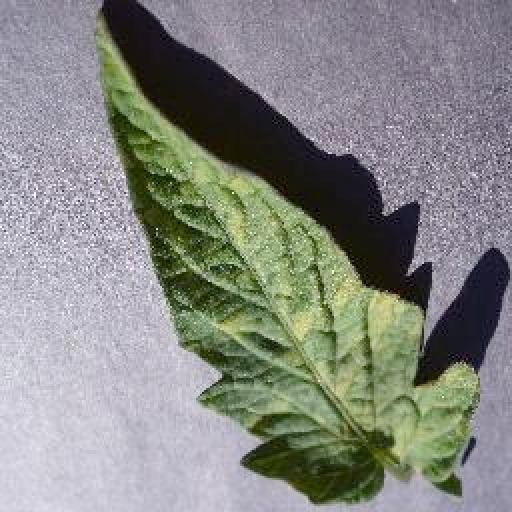disease_tomato: (94, 14, 482, 506)
